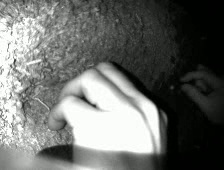corn: (169, 85, 174, 90)
